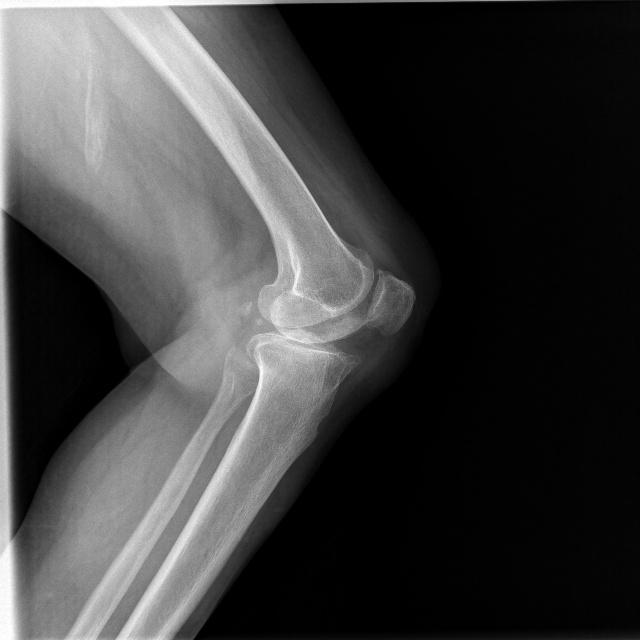Knee: (243, 243, 416, 392)
